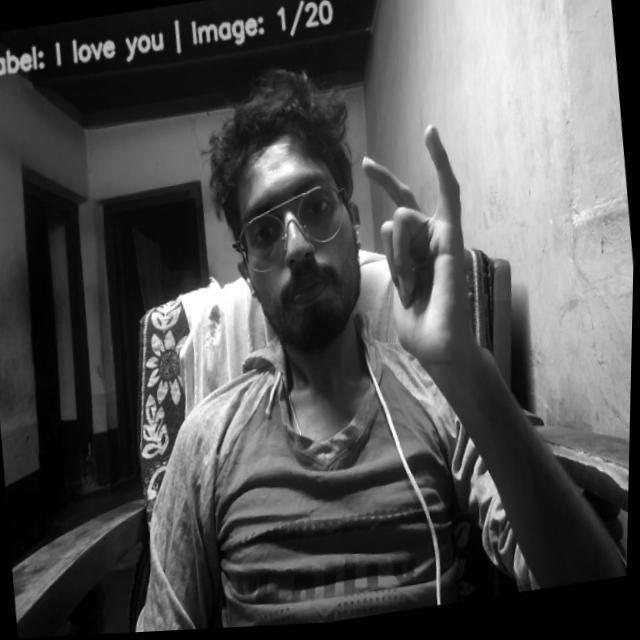I love you: (354, 125, 489, 371)
